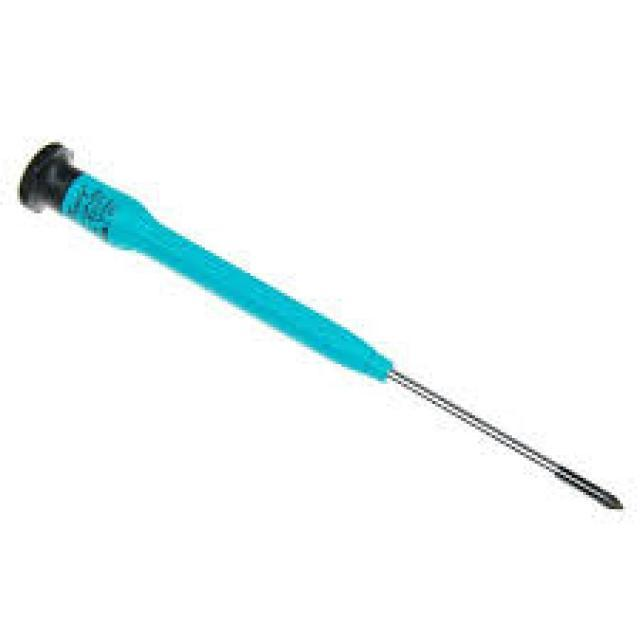screwdriver: (10, 128, 630, 524)
